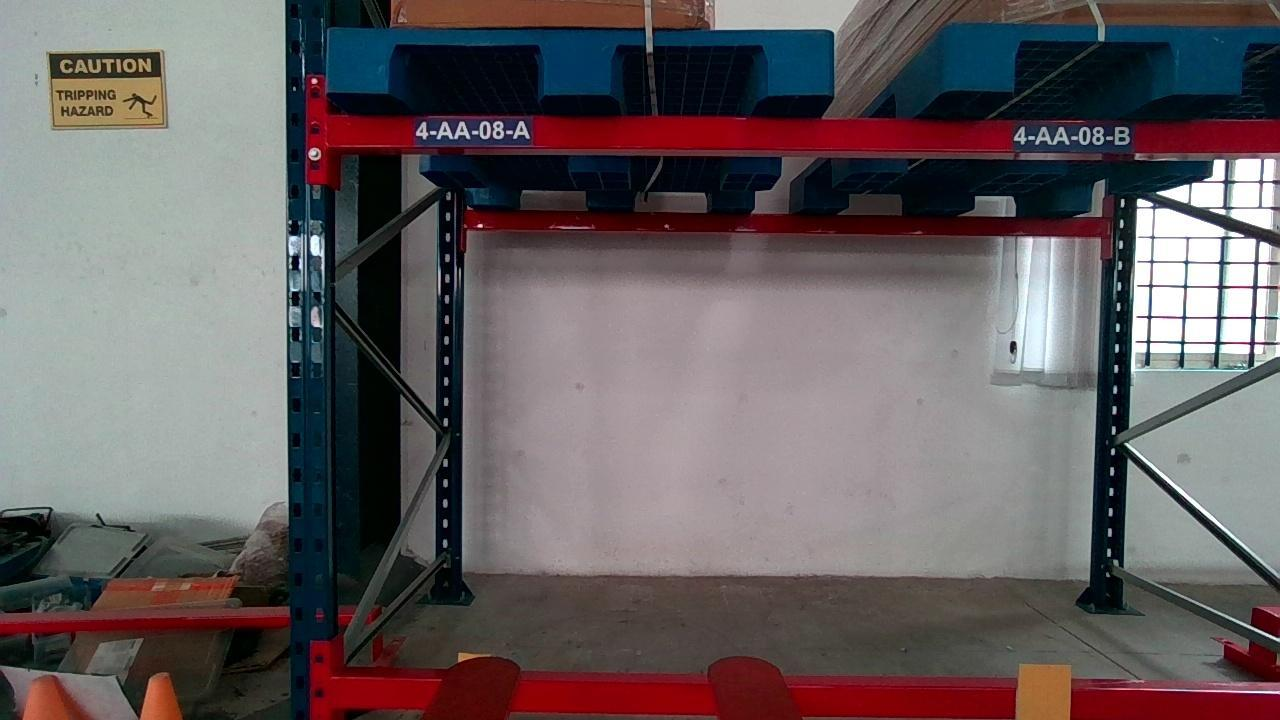h_rack: (326, 113, 1279, 152), (335, 678, 1280, 717)
orange_strip: (1020, 661, 1072, 719)
small_pallet: (328, 30, 837, 95), (943, 27, 1280, 91)
